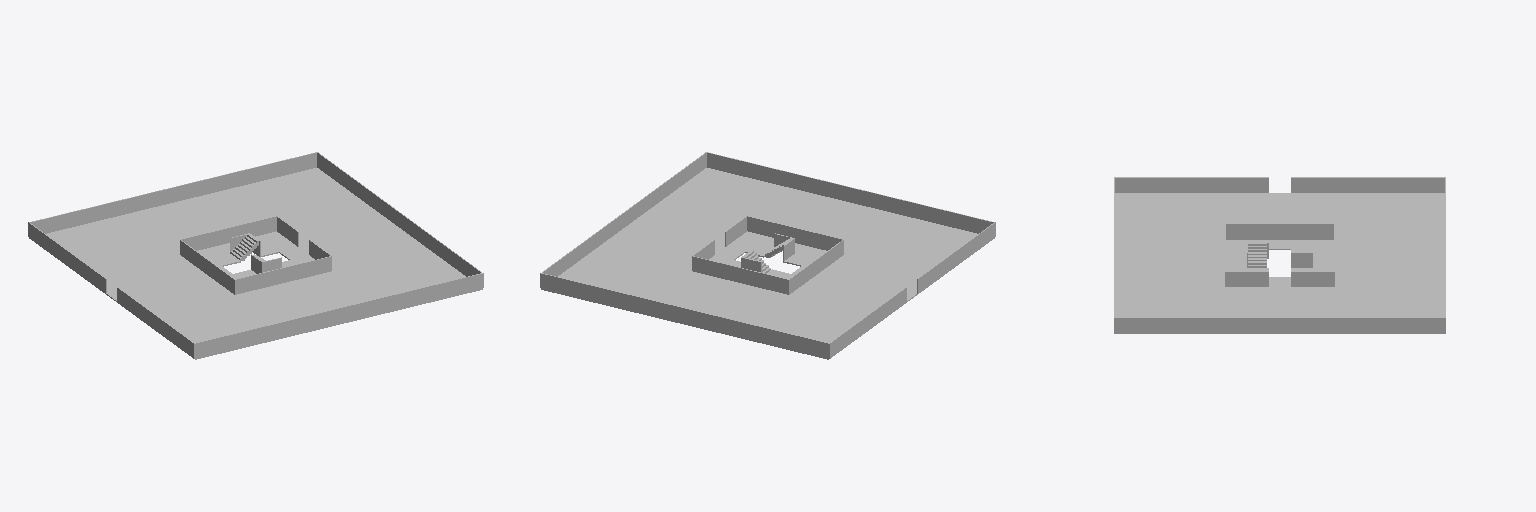
Rendered from level7dst.obj.
3 renders of one model, left to right at view 1: azimuth 30°, elevation 25°; view 2: azimuth 150°, elevation 25°; view 3: azimuth 270°, elevation 25°, orthographic.
Parts seen in each view (by area): view 1: Plane.003_Plane.065, Plane.015_Plane.105, Plane.020_Plane.108, Plane.014_Plane.100, Plane.002_Plane.109; view 2: Plane.003_Plane.065, Plane.020_Plane.108, Plane.015_Plane.105, Plane.014_Plane.100, Plane.002_Plane.109; view 3: Plane.003_Plane.065, Plane.002_Plane.109, Plane.014_Plane.100.
Part boxes in pixels (x1,y1,x2,y2): Plane.003_Plane.065: (29, 168, 482, 359); Plane.015_Plane.105: (195, 256, 482, 358); Plane.020_Plane.108: (30, 152, 316, 251); Plane.014_Plane.100: (28, 222, 262, 358); Plane.002_Plane.109: (249, 152, 483, 287); Plane.003_Plane.065: (541, 168, 994, 359); Plane.020_Plane.108: (541, 256, 828, 358); Plane.015_Plane.105: (707, 152, 993, 250); Plane.014_Plane.100: (783, 222, 995, 358); Plane.002_Plane.109: (540, 152, 752, 287); Plane.003_Plane.065: (1114, 193, 1445, 333); Plane.002_Plane.109: (1114, 253, 1445, 332); Plane.014_Plane.100: (1114, 177, 1445, 257).
Bounding box in the file's own units: 60.4 × 3.25 × 60.